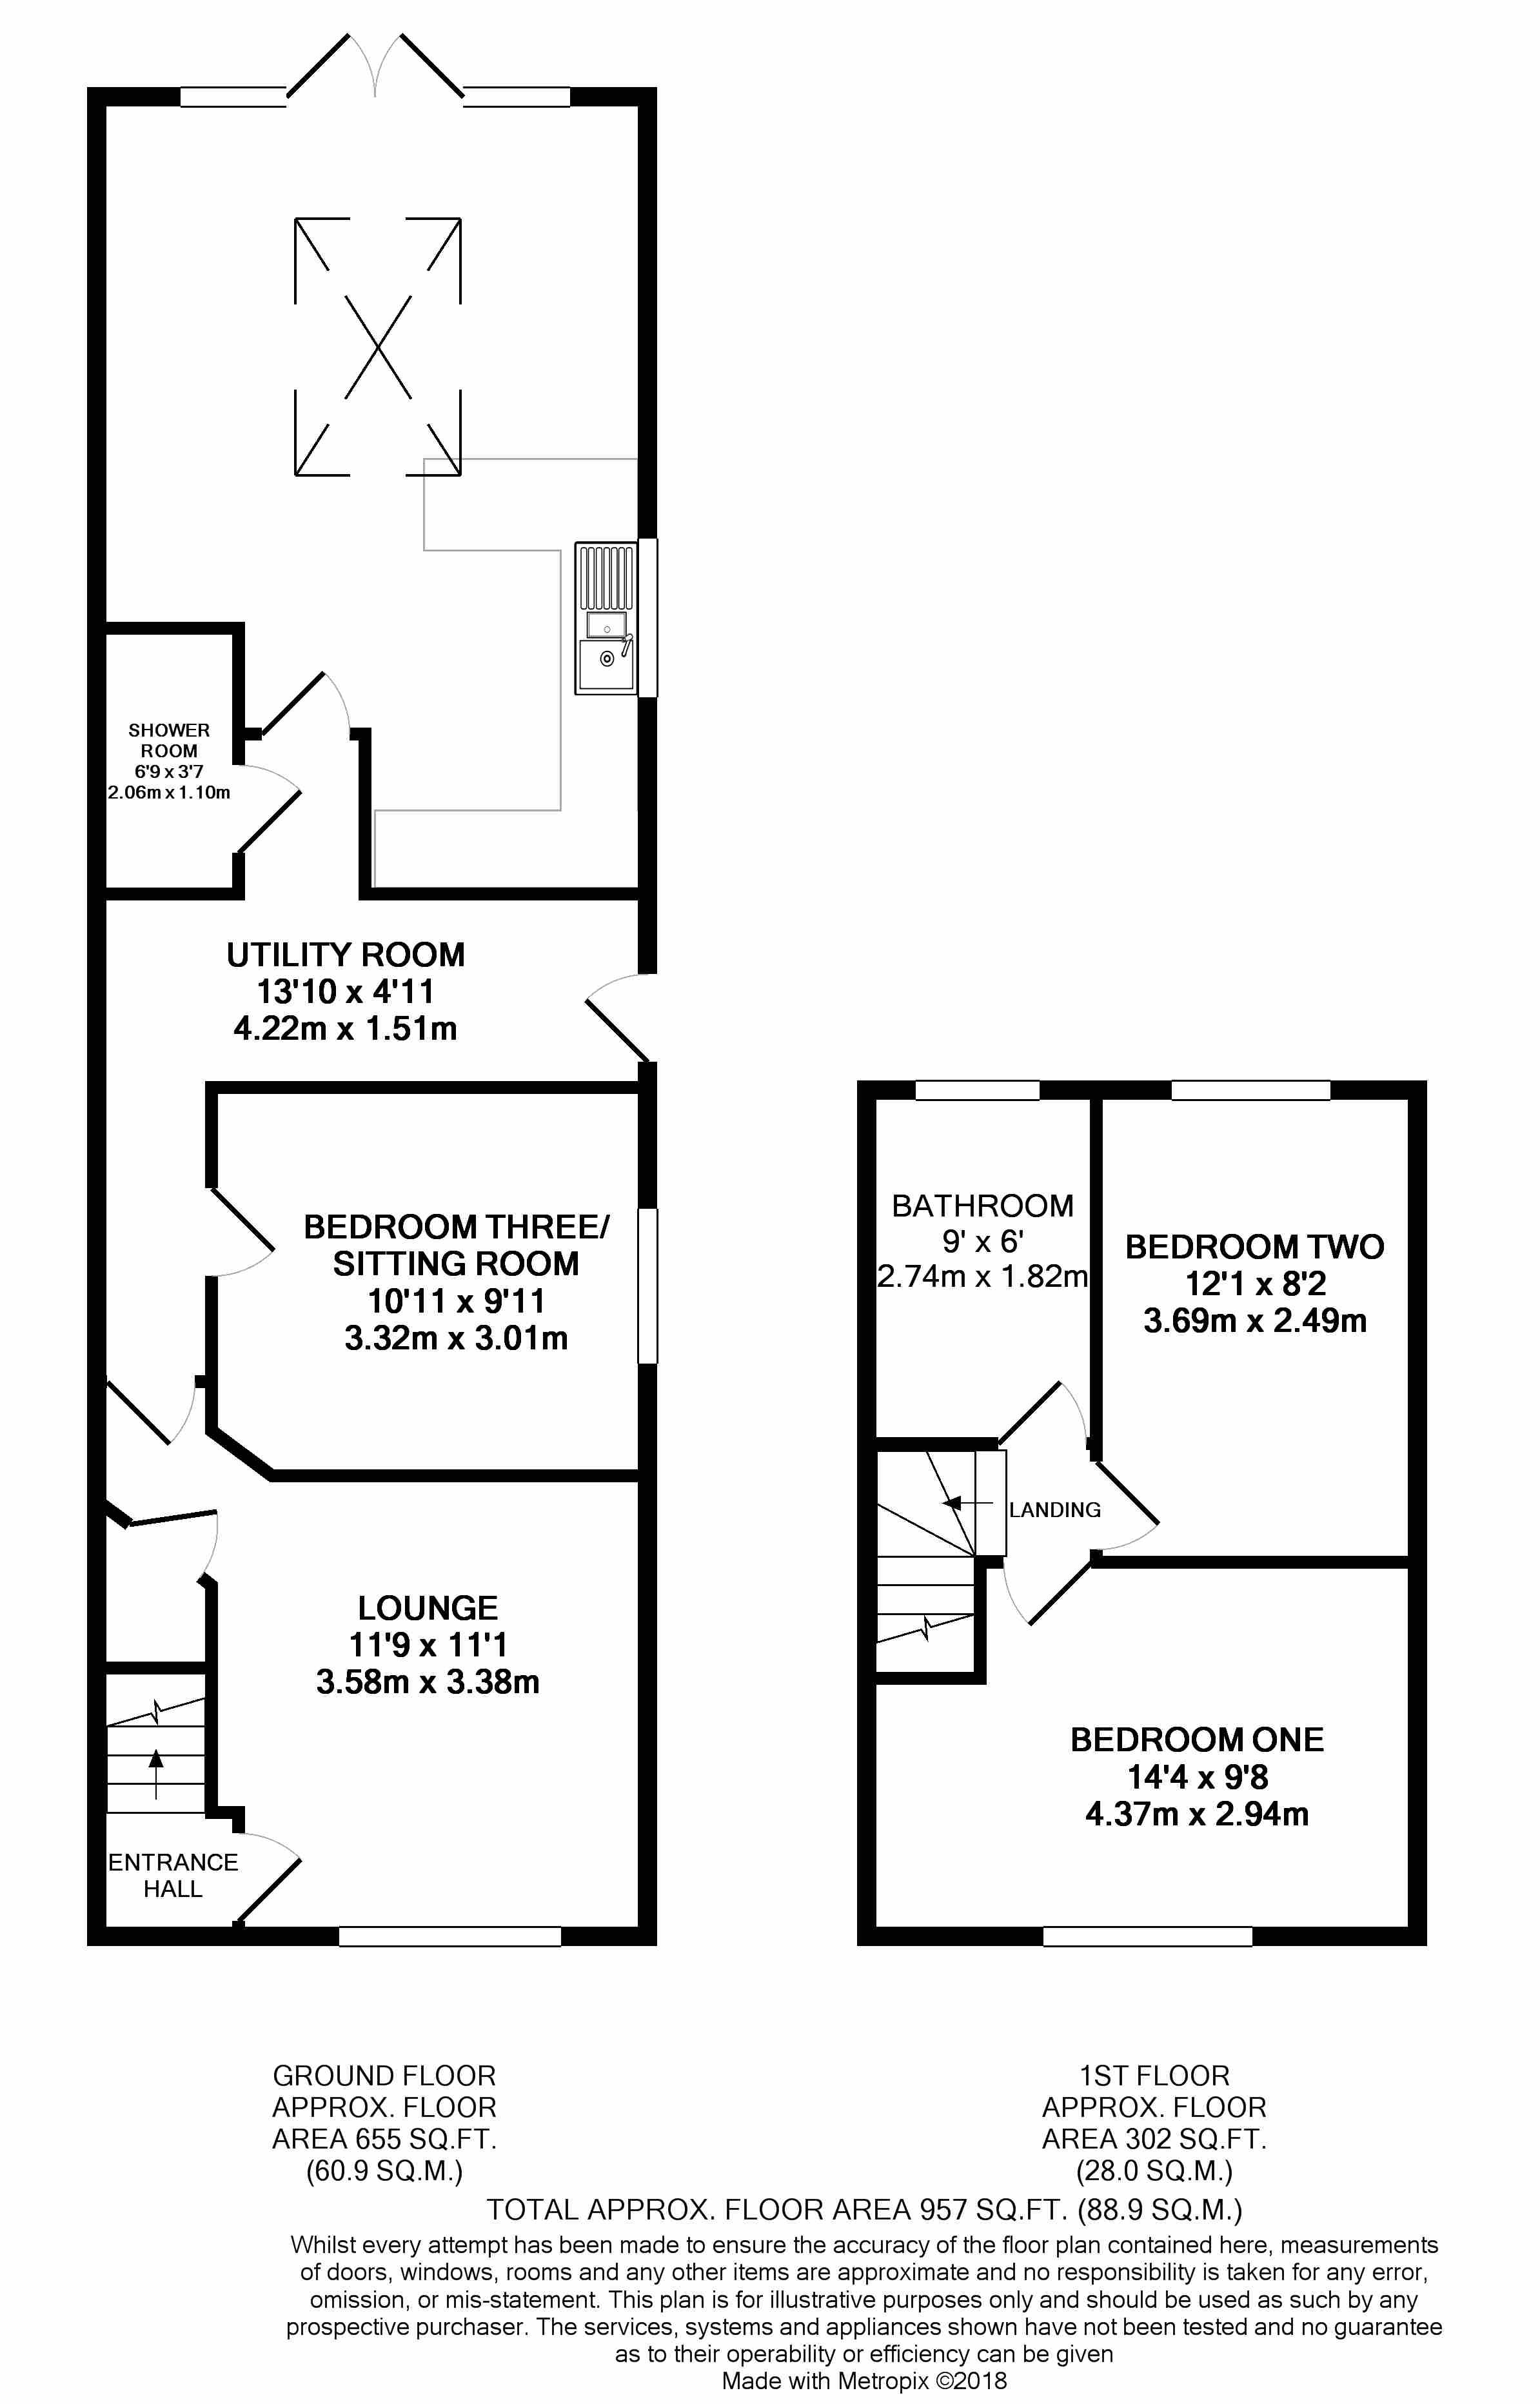door: (286, 28, 463, 117), (230, 762, 308, 864), (580, 972, 662, 1069), (200, 1181, 280, 1277), (997, 1552, 1090, 1633), (995, 1377, 1088, 1458), (1093, 1461, 1167, 1559), (261, 669, 350, 745), (107, 1374, 198, 1447), (237, 1831, 307, 1922)
